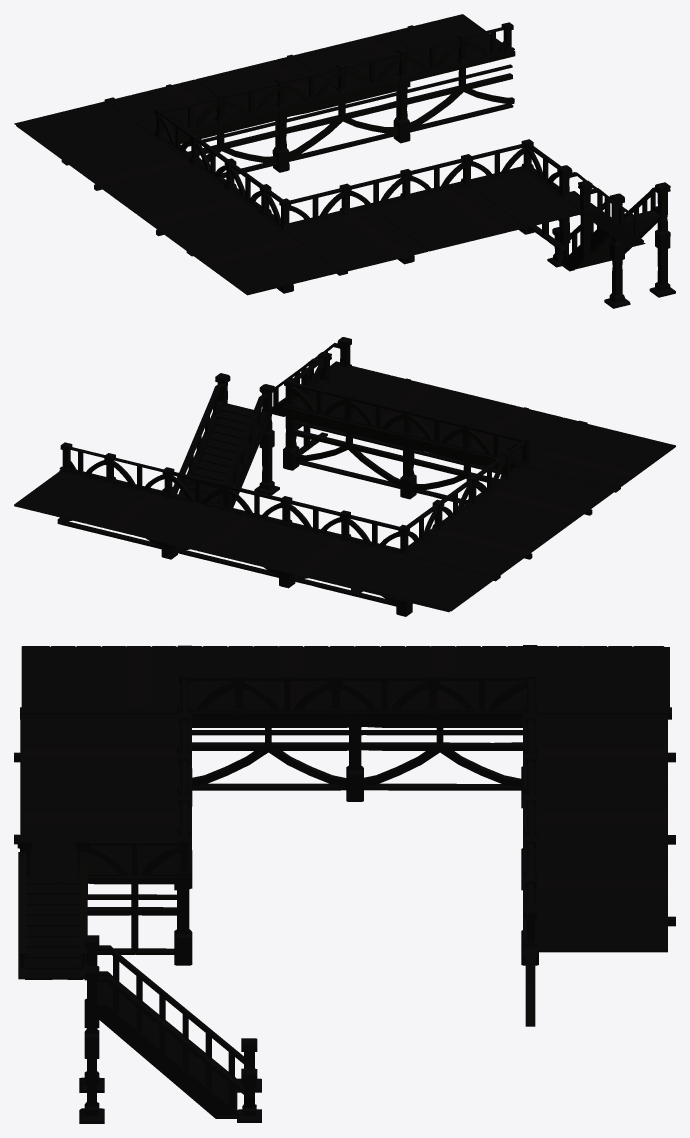
Rendered from SFT_Building_Attachable_Interior_SecondFloor_2.fbx.
The picture shows the model from 3 angles, top to bottom: view 1: azimuth 30°, elevation 25°; view 2: azimuth 150°, elevation 25°; view 3: azimuth 270°, elevation 25°; orthographic projection. The views are drawn at different scales.
Parts seen in each view (by area): view 1: SFT_Building_Attachable_Interior_SecondFloor_2; view 2: SFT_Building_Attachable_Interior_SecondFloor_2; view 3: SFT_Building_Attachable_Interior_SecondFloor_2.
Boxes of the visible parts, x1,y1,x2,y2 form: SFT_Building_Attachable_Interior_SecondFloor_2: (14, 14, 675, 308); SFT_Building_Attachable_Interior_SecondFloor_2: (14, 337, 675, 616); SFT_Building_Attachable_Interior_SecondFloor_2: (14, 645, 675, 1123).
Bounding box in the file's own units: 1794 × 576 × 1642.
